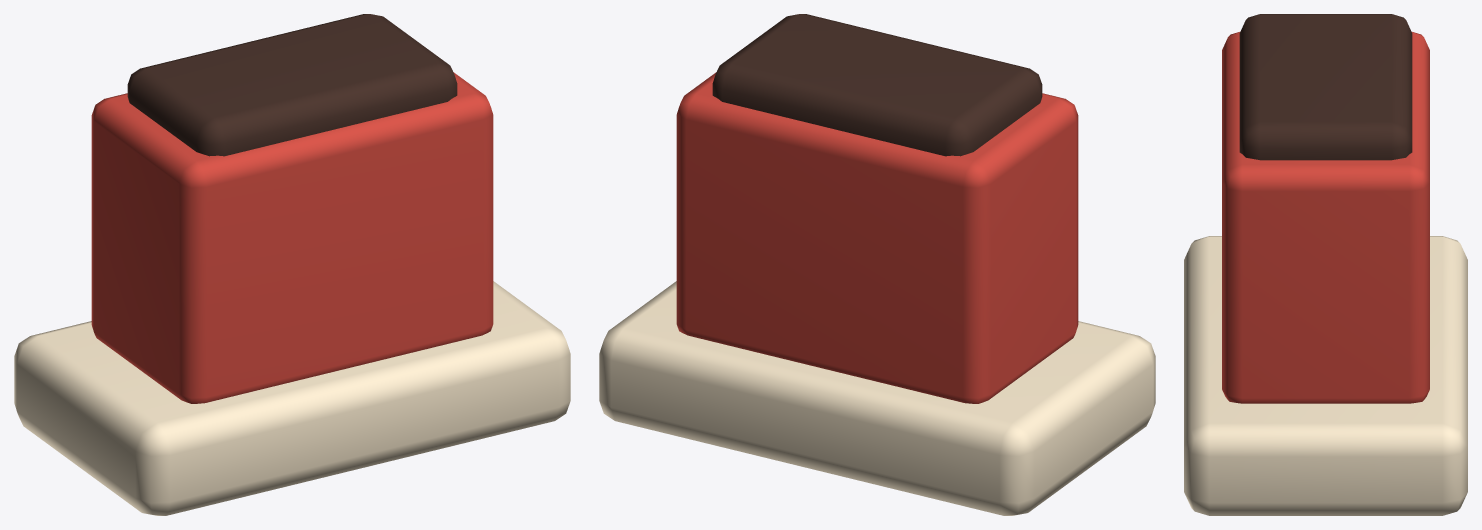
Rendered from A21_StopBlock.fbx.
3 renders of one model, left to right at view 1: azimuth 30°, elevation 25°; view 2: azimuth 150°, elevation 25°; view 3: azimuth 270°, elevation 25°, orthographic.
Parts seen in each view (by area): view 1: Tomato stop block, Cream stop base, Dark stop buffer; view 2: Tomato stop block, Cream stop base, Dark stop buffer; view 3: Tomato stop block, Cream stop base, Dark stop buffer.
Boxes of the visible parts, left/top/right/bottom form: Tomato stop block: left=91, top=72, right=493, bottom=403; Cream stop base: left=14, top=281, right=570, bottom=515; Dark stop buffer: left=127, top=14, right=457, bottom=156; Tomato stop block: left=676, top=72, right=1078, bottom=403; Cream stop base: left=599, top=281, right=1155, bottom=515; Dark stop buffer: left=712, top=14, right=1042, bottom=156; Tomato stop block: left=1222, top=32, right=1429, bottom=403; Cream stop base: left=1184, top=236, right=1467, bottom=515; Dark stop buffer: left=1239, top=14, right=1412, bottom=160.
Size of what is drawn, in the model's own units: 0.097 by 0.077 by 0.056.
